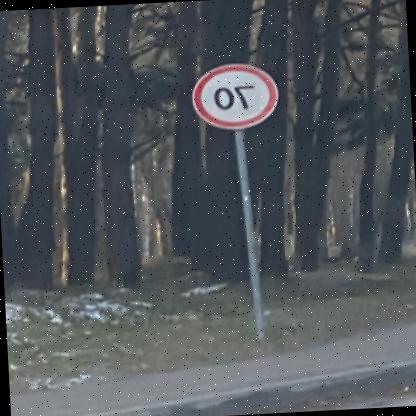speedlimit: (193, 61, 282, 130)
